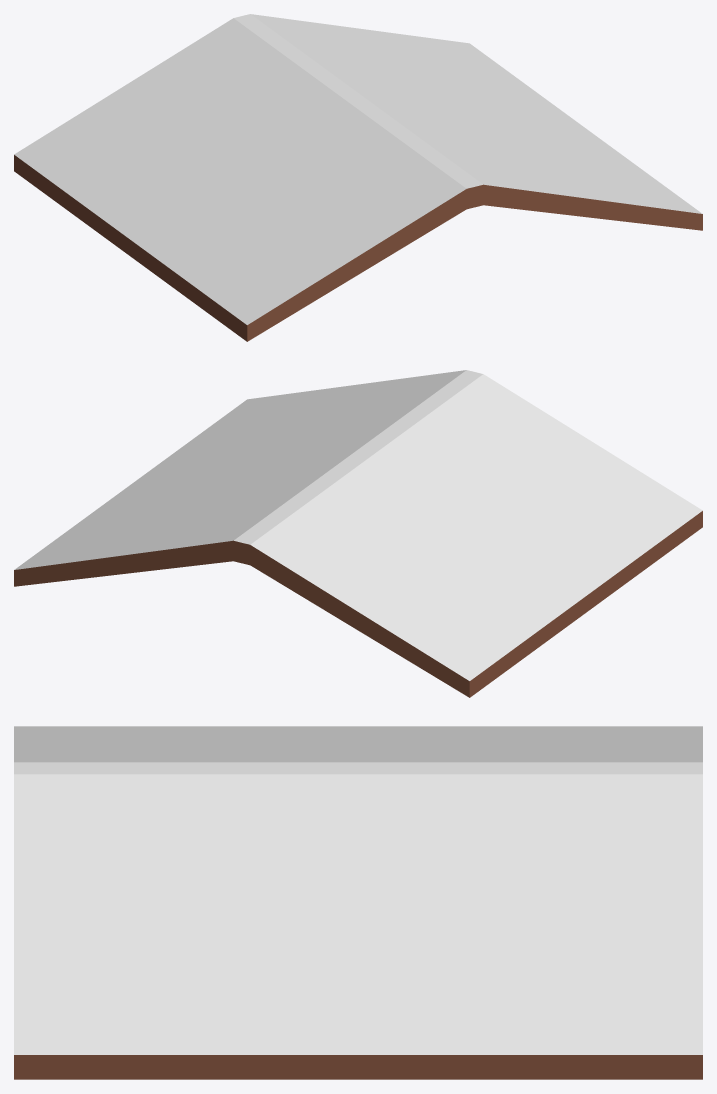
Rendered from LightWoodDecorationMediumChaletRoof1.fbx.
3 renders of one model, top to bottom at view 1: azimuth 30°, elevation 25°; view 2: azimuth 150°, elevation 25°; view 3: azimuth 270°, elevation 25°, orthographic. The views are drawn at different scales.
Parts seen in each view (by area): view 1: LightWoodDecorationMediumChaletRoof1; view 2: LightWoodDecorationMediumChaletRoof1; view 3: LightWoodDecorationMediumChaletRoof1.
Part boxes in pixels (x1,y1,x2,y2): LightWoodDecorationMediumChaletRoof1: (14, 14, 702, 341); LightWoodDecorationMediumChaletRoof1: (14, 370, 702, 697); LightWoodDecorationMediumChaletRoof1: (14, 726, 702, 1079).
Size of the model in its own units: 966 by 202 by 857.
